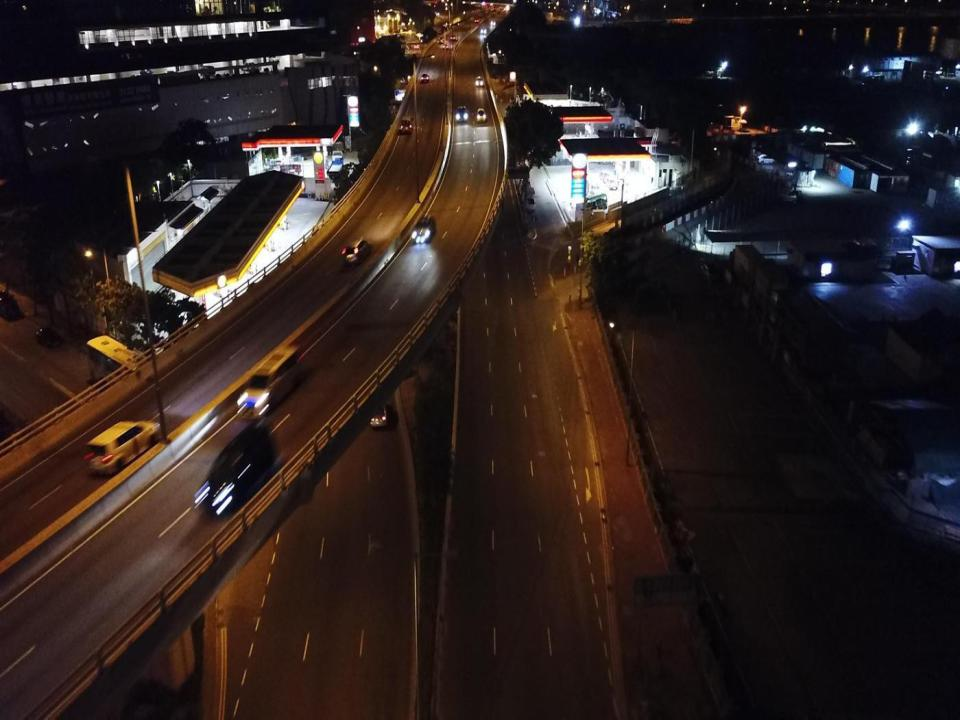bus: (86, 334, 166, 408), (582, 195, 608, 213)
car: (86, 418, 160, 478), (341, 234, 374, 267), (368, 393, 389, 429), (36, 326, 62, 353), (413, 217, 435, 246), (0, 293, 19, 321), (398, 112, 413, 134), (757, 151, 777, 165), (599, 170, 611, 182), (477, 108, 486, 123), (474, 75, 482, 87), (421, 73, 429, 83), (480, 26, 488, 34), (490, 19, 496, 26), (450, 35, 457, 40), (439, 37, 444, 44), (475, 17, 480, 22), (443, 44, 448, 49), (414, 44, 419, 48)
truck: (326, 149, 344, 178), (586, 173, 600, 202)
van: (203, 430, 278, 517), (242, 344, 300, 420), (456, 105, 468, 123), (605, 175, 618, 190)
